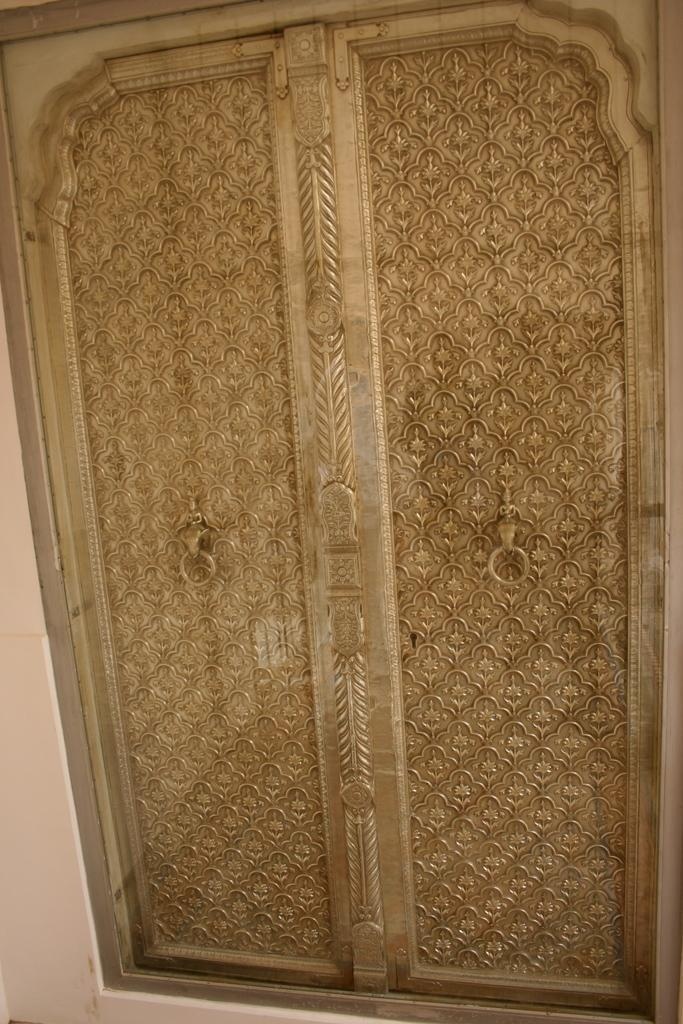door: (384, 72, 604, 954), (73, 110, 281, 924)
handle: (479, 530, 534, 594), (176, 538, 218, 596)
